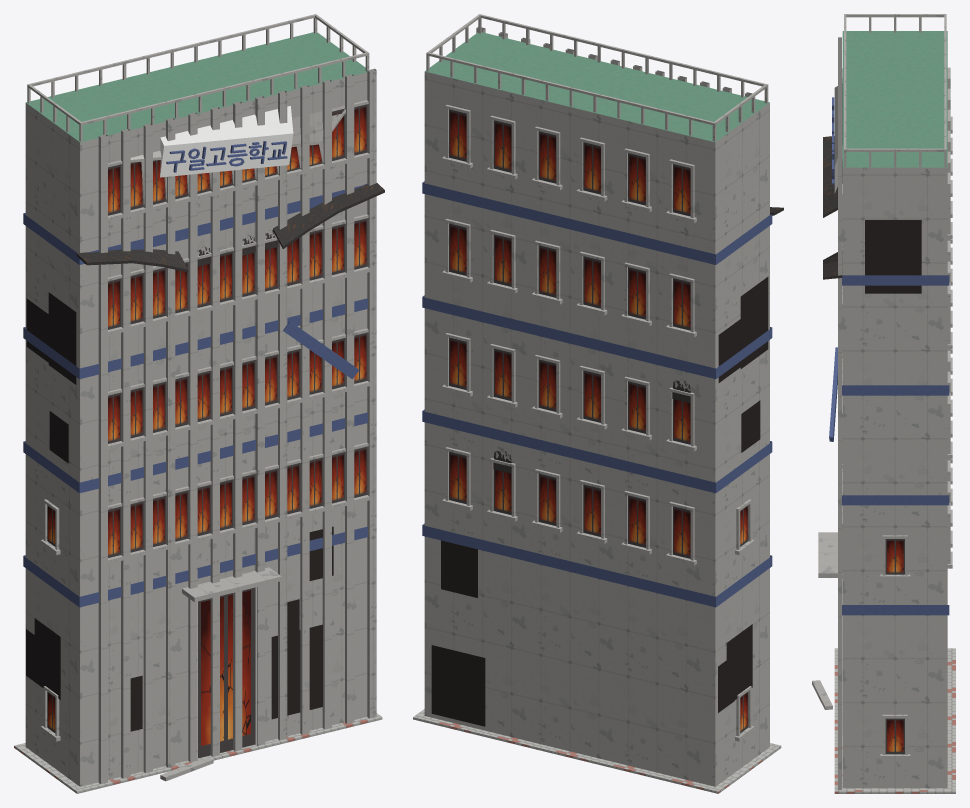
Rendered from Story06_구일고등학교_화남.fbx.
3 views of the same model, side by side, from view 1: azimuth 30°, elevation 25°; view 2: azimuth 150°, elevation 25°; view 3: azimuth 270°, elevation 25° (orthographic). The views are drawn at different scales.
Visible parts, largest first — view 1: Story06_구일고등학교_화남; view 2: Story06_구일고등학교_화남; view 3: Story06_구일고등학교_화남.
Part boxes in pixels (x1,y1,x2,y2): Story06_구일고등학교_화남: (14,14,384,793); Story06_구일고등학교_화남: (413,14,783,793); Story06_구일고등학교_화남: (812,14,955,793).
Bounding box in the file's own units: 4200 × 8740 × 1779.
Materials: 9 (9 with a texture image).
